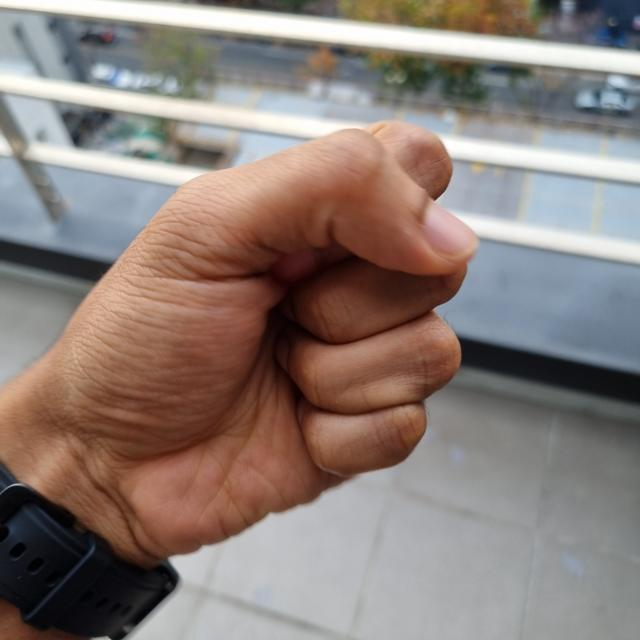Rock: (0, 123, 478, 577)
